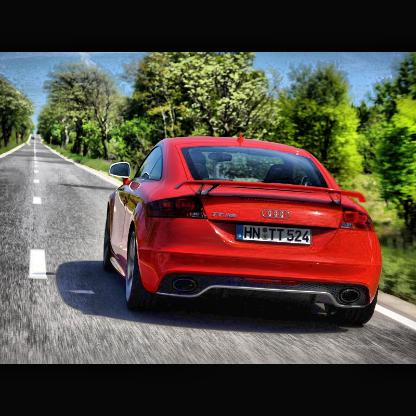Audi TT RS Coupe 2012: (103, 135, 385, 327)
